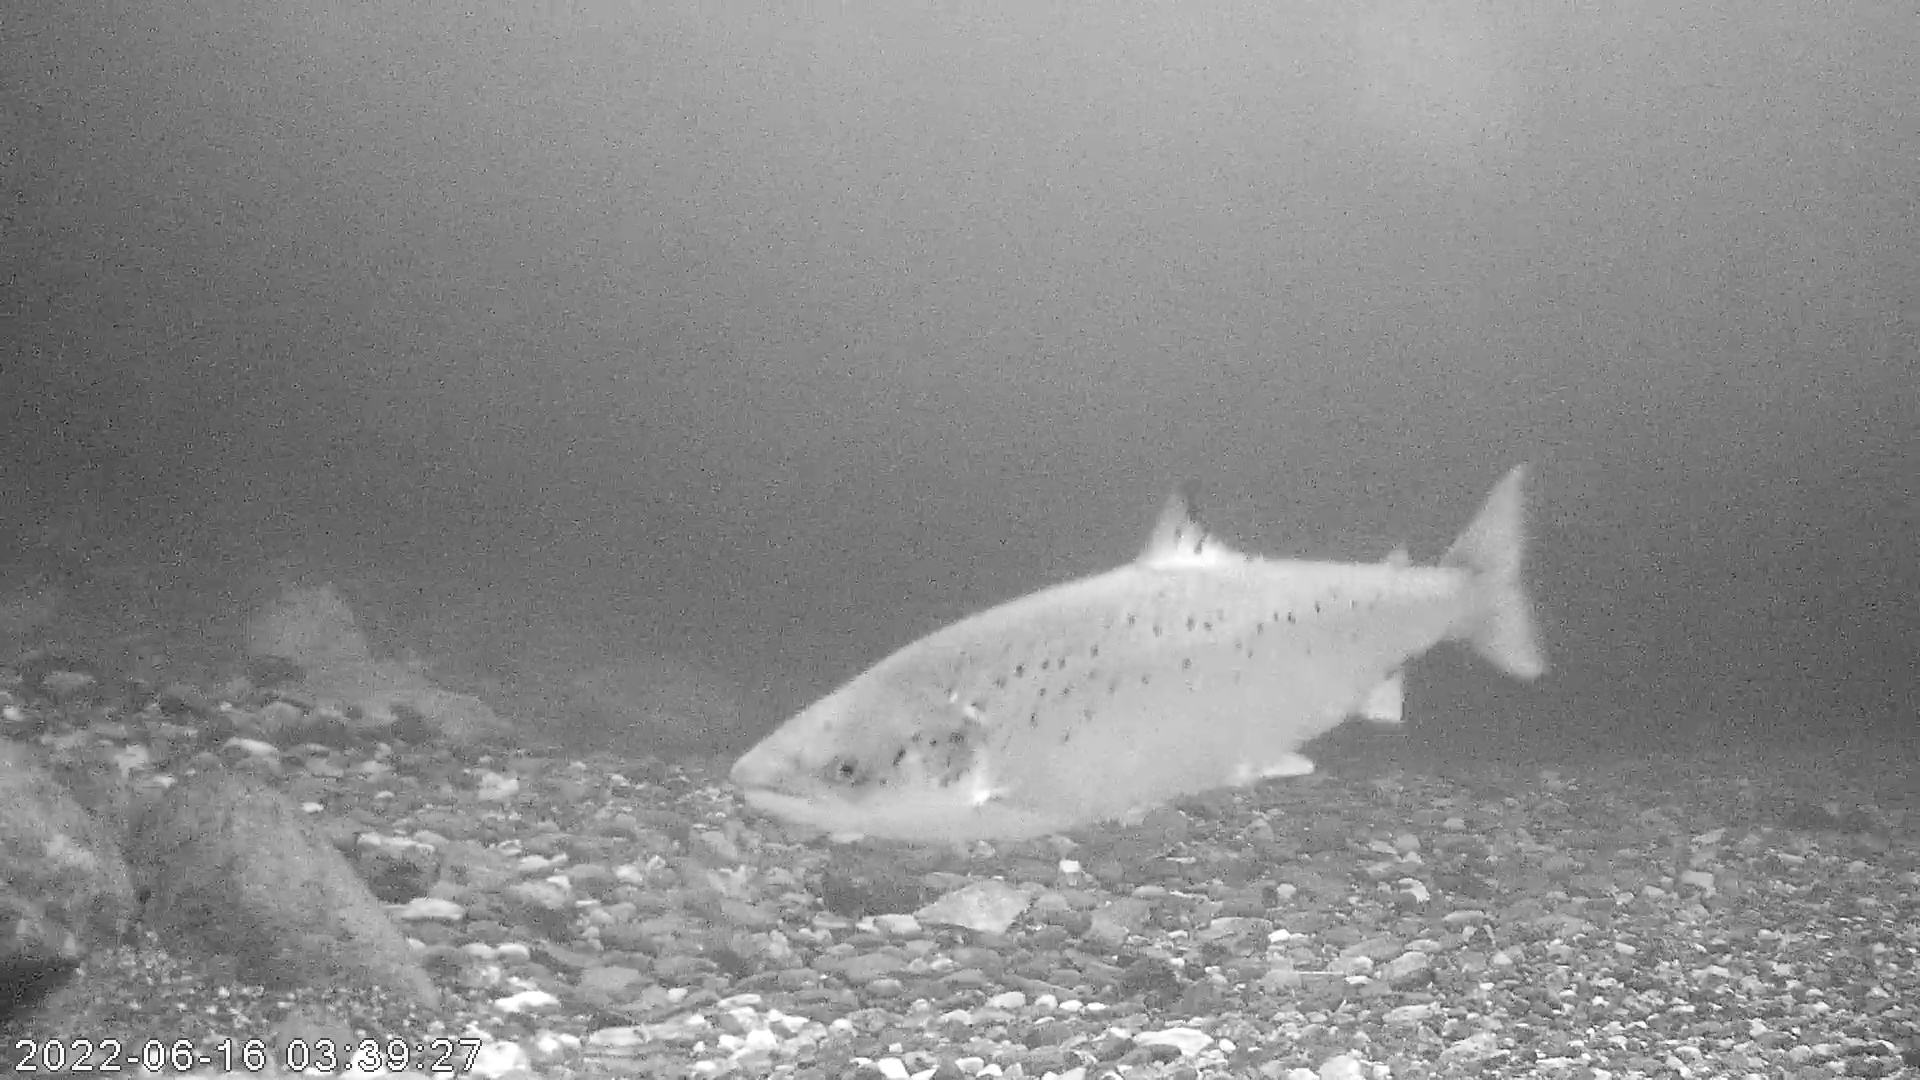salmon: (725, 458, 1545, 847)
